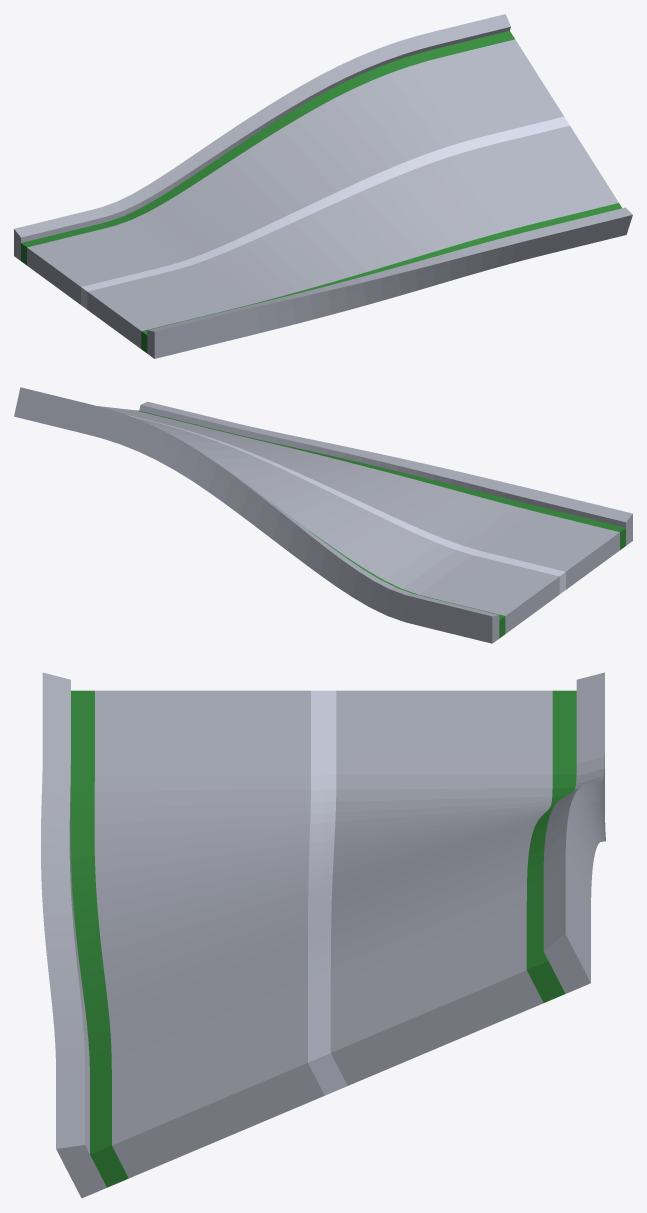
Rendered from tilted_road_right.glb.
3 renders of one model, top to bottom at view 1: azimuth 30°, elevation 25°; view 2: azimuth 150°, elevation 25°; view 3: azimuth 270°, elevation 25°, orthographic. The views are drawn at different scales.
Parts seen in each view (by area): view 1: tilted_road; view 2: tilted_road; view 3: tilted_road.
Boxes of the visible parts, x1=… form: tilted_road: x1=14, y1=14, x2=632, y2=358; tilted_road: x1=14, y1=387, x2=632, y2=643; tilted_road: x1=41, y1=672, x2=605, y2=1198.
Size of the model in its own units: 27.71 by 7.28 by 14.08.
